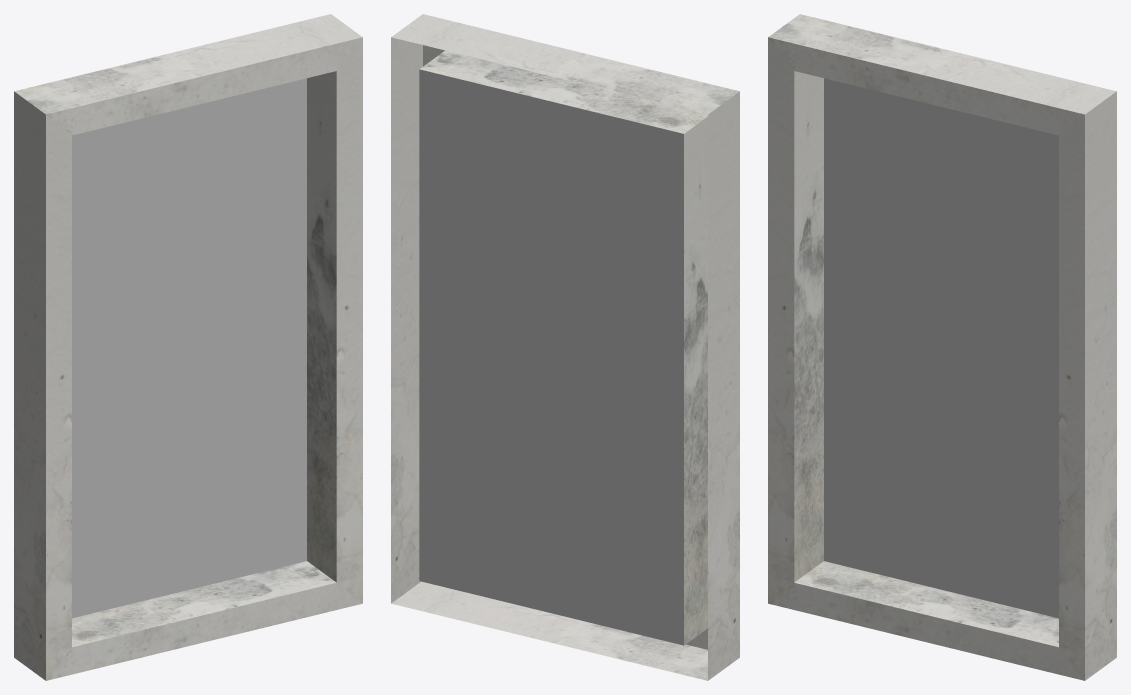
File: window 1.FBX
The picture shows the model from 3 angles, left to right: view 1: azimuth 30°, elevation 25°; view 2: azimuth 150°, elevation 25°; view 3: azimuth 330°, elevation 25°; orthographic projection.
Parts seen in each view (by area): view 1: window; view 2: window; view 3: window.
Boxes of the visible parts, <box> form: window: <box>14,14,362,680</box>; window: <box>391,14,739,680</box>; window: <box>768,14,1116,680</box>.
Size of the model in its own units: 0.9709 by 1.66 by 0.1688.
